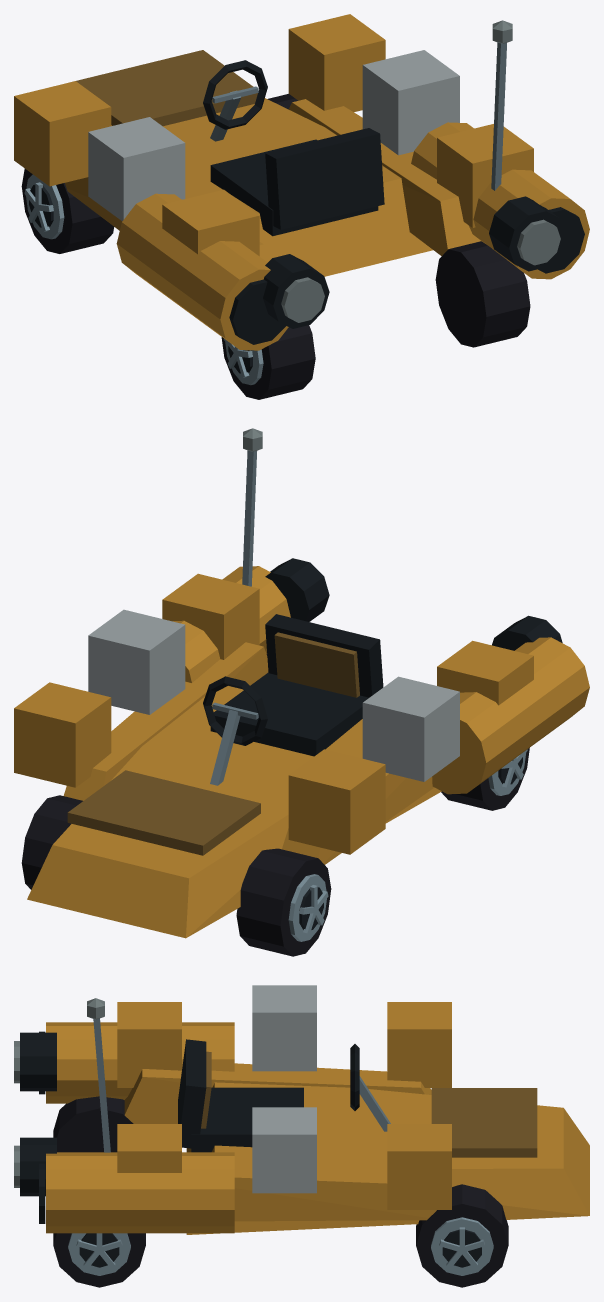
File: kart.glb
The picture shows the model from 3 angles, top to bottom: view 1: azimuth 30°, elevation 25°; view 2: azimuth 150°, elevation 25°; view 3: azimuth 270°, elevation 25°; orthographic projection. The views are drawn at different scales.
Visible parts, largest first — view 1: identity-speeder-speeder-long-cowl-and-stern-turbines, identity-speeder-motif-blocks, identity-speeder-driver-cockpit, identity-speeder-motif-thrusters, wheel-rear-right, wheel-rear-left, wheel-front-left, identity-speeder-motif-antenna; view 2: identity-speeder-speeder-long-cowl-and-stern-turbines, identity-speeder-motif-blocks, identity-speeder-driver-cockpit, wheel-front-left, identity-speeder-motif-thrusters, wheel-front-right, wheel-rear-left, identity-speeder-motif-antenna; view 3: identity-speeder-speeder-long-cowl-and-stern-turbines, identity-speeder-motif-blocks, identity-speeder-driver-cockpit, wheel-front-right, identity-speeder-motif-thrusters, wheel-rear-right, wheel-rear-left, identity-speeder-motif-antenna.
Boxes of the visible parts, <box> form: identity-speeder-speeder-long-cowl-and-stern-turbines: <box>65,50,589,350</box>; identity-speeder-motif-blocks: <box>14,14,533,256</box>; identity-speeder-driver-cockpit: <box>203,60,384,236</box>; identity-speeder-motif-thrusters: <box>263,196,565,328</box>; wheel-rear-right: <box>435,241,530,347</box>; wheel-rear-left: <box>221,325,315,399</box>; wheel-front-left: <box>21,168,113,253</box>; identity-speeder-motif-antenna: <box>491,20,512,190</box>; identity-speeder-speeder-long-cowl-and-stern-turbines: <box>27,566,589,938</box>; identity-speeder-motif-blocks: <box>14,573,533,854</box>; identity-speeder-driver-cockpit: <box>203,614,383,785</box>; wheel-front-left: <box>236,848,331,956</box>; identity-speeder-motif-thrusters: <box>265,558,562,650</box>; wheel-front-right: <box>21,795,82,889</box>; wheel-rear-left: <box>441,748,529,810</box>; identity-speeder-motif-antenna: <box>242,428,262,586</box>; identity-speeder-speeder-long-cowl-and-stern-turbines: <box>39,1022,589,1234</box>; identity-speeder-motif-blocks: <box>117,985,451,1209</box>; identity-speeder-driver-cockpit: <box>178,1039,390,1152</box>; wheel-front-right: <box>416,1184,508,1287</box>; identity-speeder-motif-thrusters: <box>14,1032,56,1196</box>; wheel-rear-right: <box>53,1233,145,1287</box>; wheel-rear-left: <box>53,1096,133,1152</box>; identity-speeder-motif-antenna: <box>87,998,110,1152</box>.
Size of the model in its own units: 2.1 by 1.72 by 3.11.
